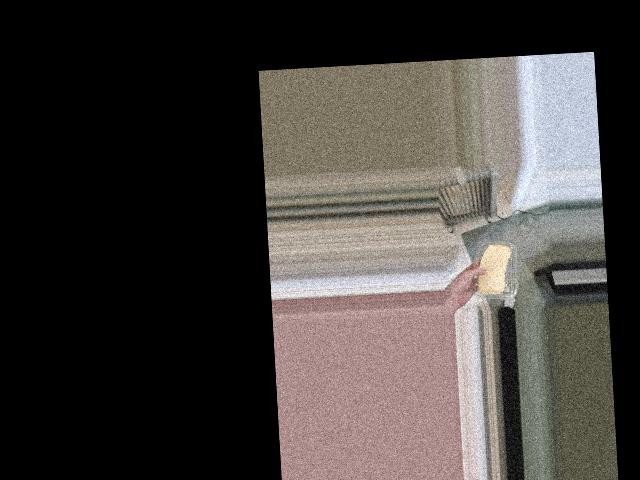cheese: (470, 236, 518, 299)
